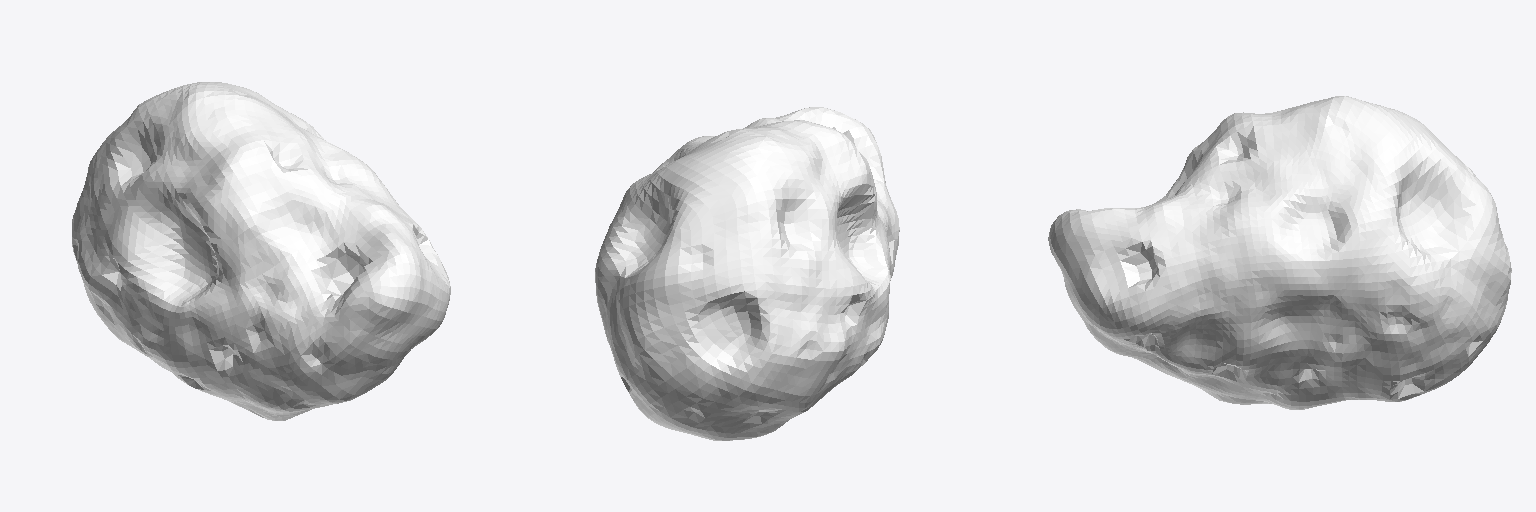
Rendered from Asteroid.obj.
3 renders of one model, left to right at view 1: azimuth 30°, elevation 25°; view 2: azimuth 150°, elevation 25°; view 3: azimuth 270°, elevation 25°, orthographic.
Visible parts, largest first — view 1: asteroid_uv:Group1_lambert2SG; view 2: asteroid_uv:Group1_lambert2SG; view 3: asteroid_uv:Group1_lambert2SG.
Boxes of the visible parts, box(x1,y1,x2,y2) form: asteroid_uv:Group1_lambert2SG: box(72, 82, 450, 420); asteroid_uv:Group1_lambert2SG: box(595, 107, 899, 440); asteroid_uv:Group1_lambert2SG: box(1048, 96, 1511, 409).
Size of the model in its own units: 46.98 by 53.92 by 77.41.